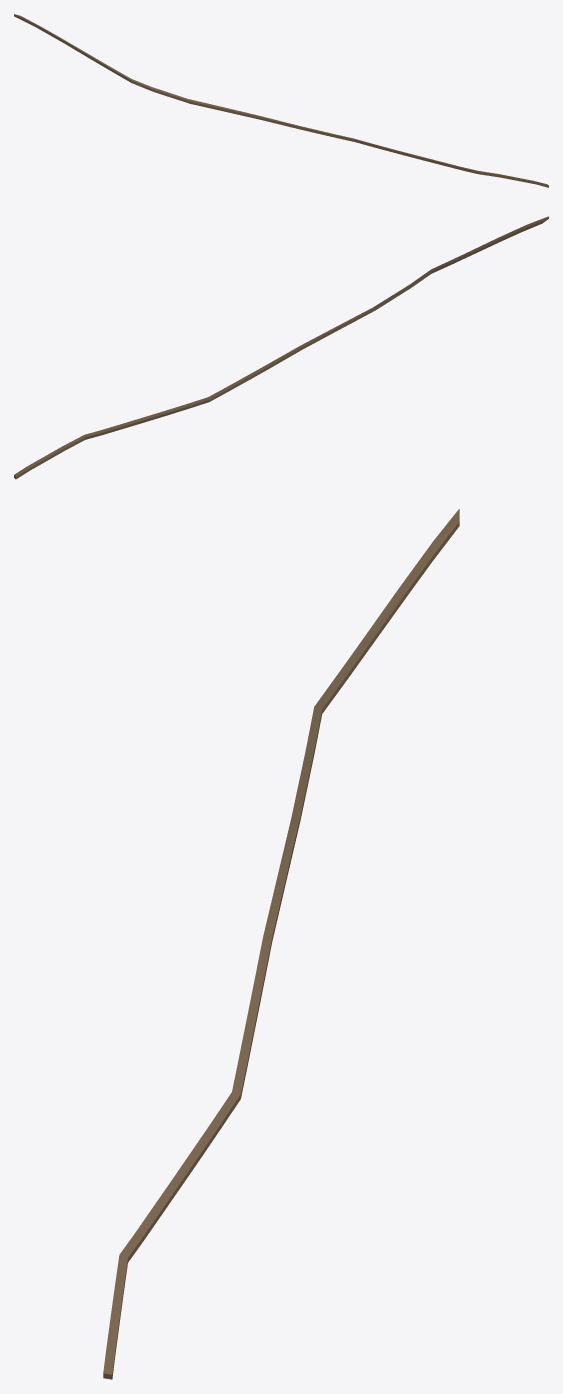
File: 15-27365-14863.d86eefef.glb
The picture shows the model from 3 angles, top to bottom: view 1: azimuth 30°, elevation 25°; view 2: azimuth 210°, elevation 25°; view 3: azimuth 270°, elevation 25°; orthographic projection. The views are drawn at different scales.
Size of the model in its own units: 134 by 62.55 by 46.37.
